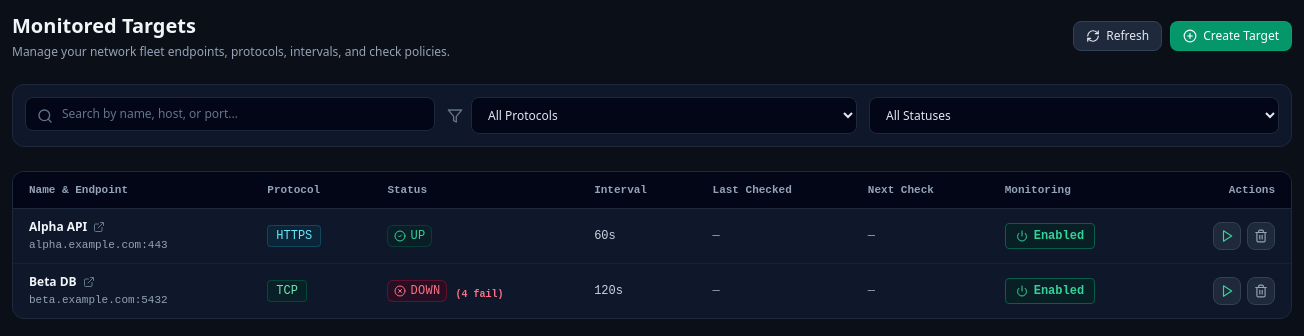
Test: TargetsListPage › filters by status dropdown
The image size is (1304, 336).
Expected: the text "Alpha API" is shown, [29,219,87,235]
Select "DOWN" in the 2nd dropdown showing "All Statuses" at [1074, 116], box [869,97,1279,134]
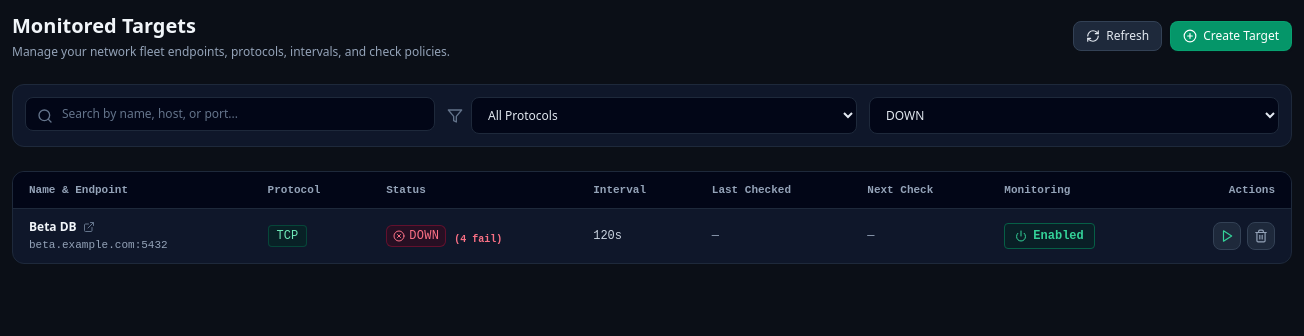
Expected: the text "Beta DB" is shown, [29,219,77,235]
Expected: the link "Alpha API" is gone
